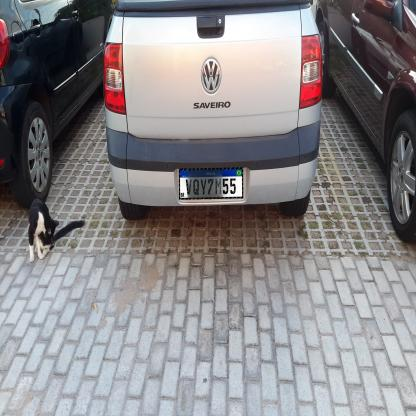PlacaM: (179, 167, 243, 200)
